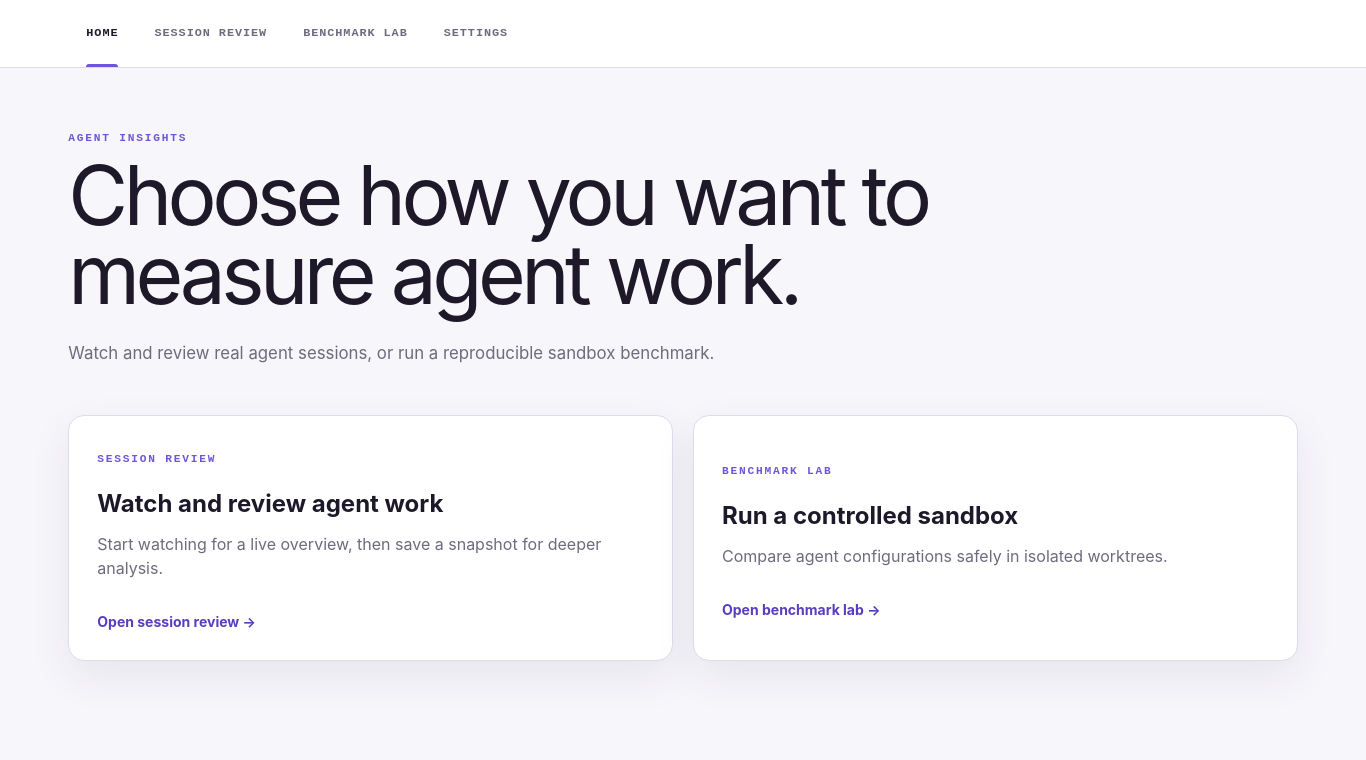
Scenario: does not retry durable history against a different connected repository
Click the button "Benchmark Lab".
click(355, 34)  # box x1=285 y1=0 x2=426 y2=67
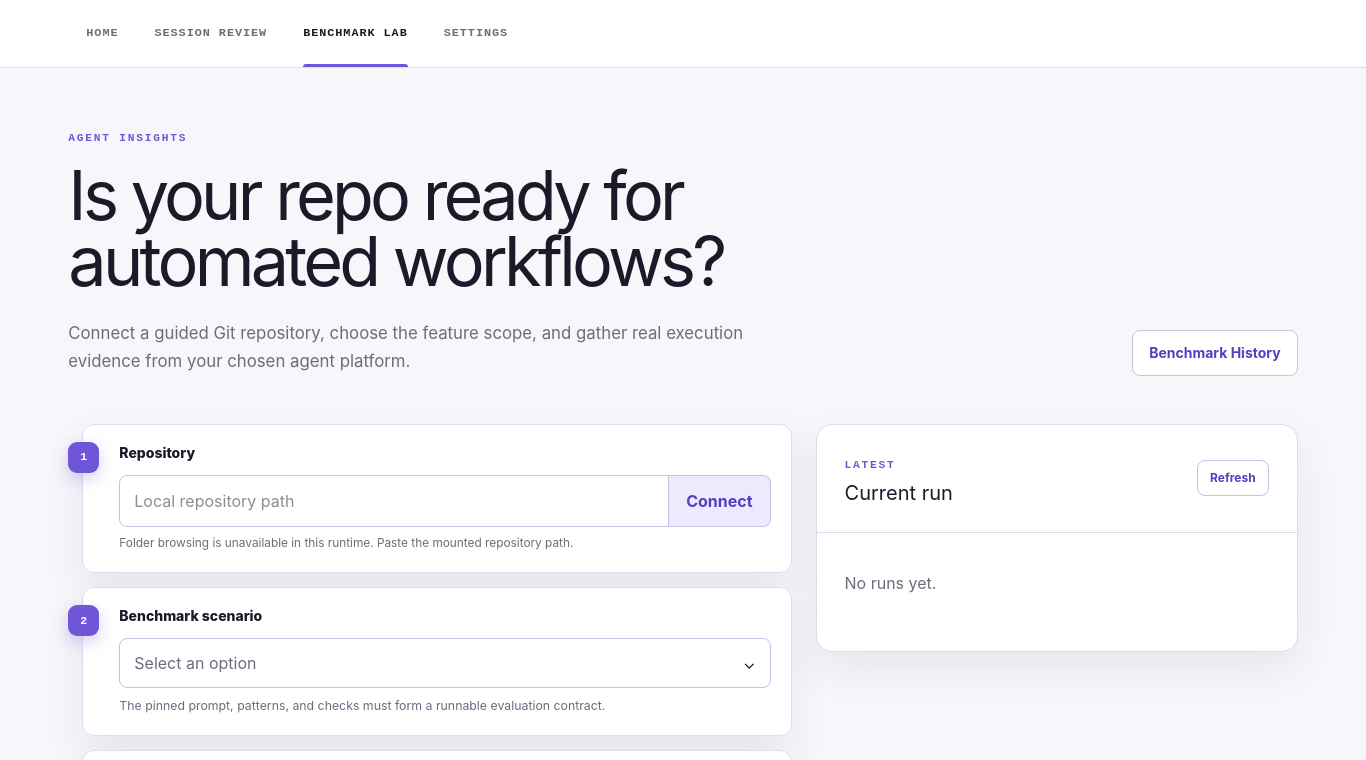
Type "/tmp/other-repo" into the field labelled "Local repository path".
click(394, 501); type("/tmp/other-repo")  # box x1=119 y1=475 x2=669 y2=527
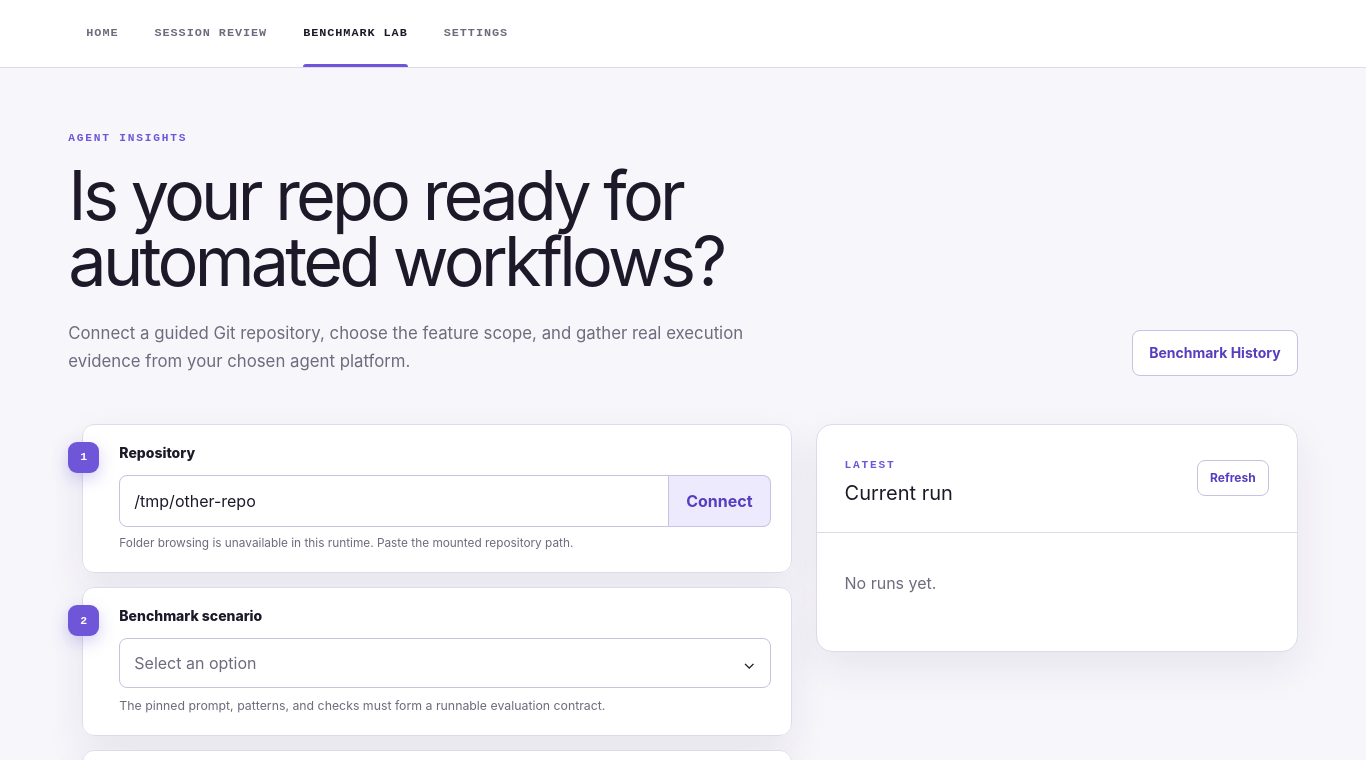
Click the button "Connect".
click(720, 501)  # box x1=669 y1=475 x2=771 y2=527
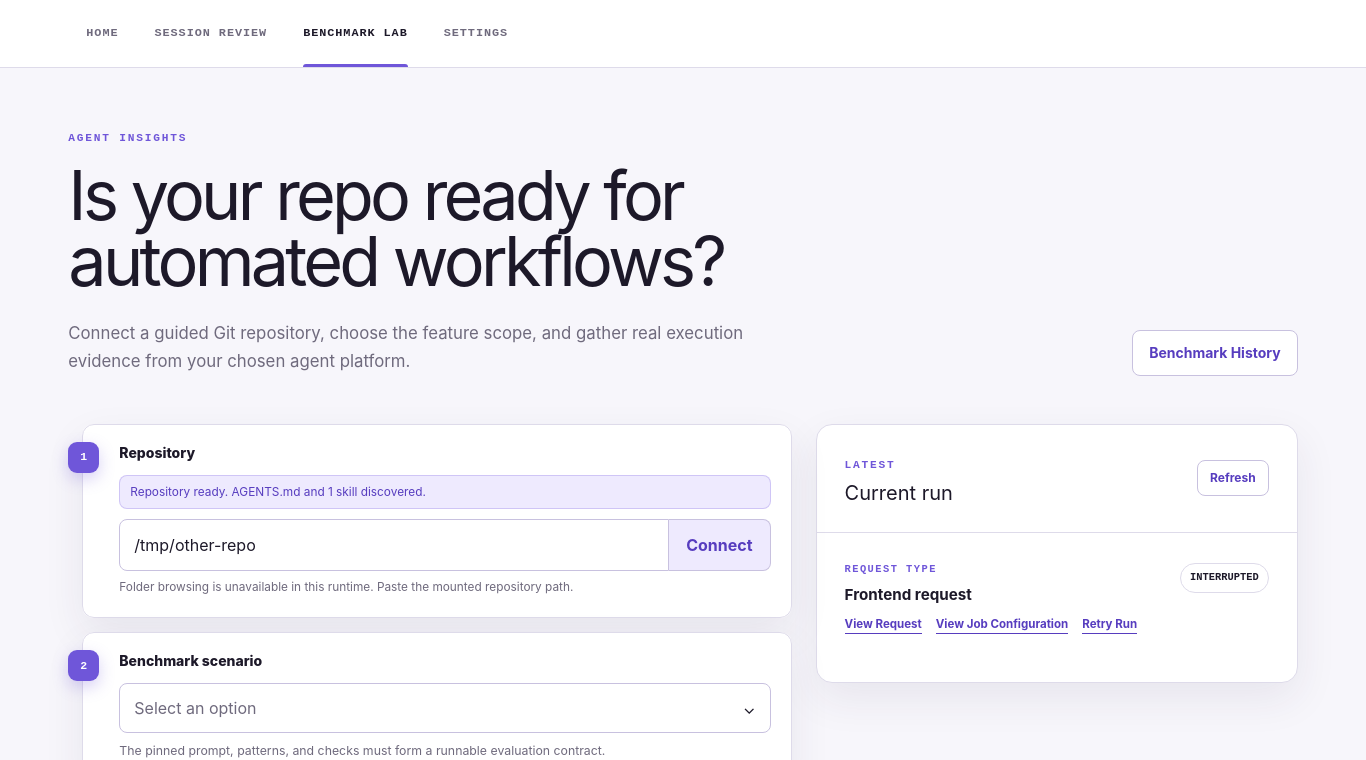
expect the text "Repository ready. AGENTS.md and 1 skill discovered." is shown: met, box x1=119 y1=475 x2=770 y2=509
Click the button "Retry Run".
click(1110, 625)  # box x1=1082 y1=616 x2=1137 y2=634
(page scrolled)
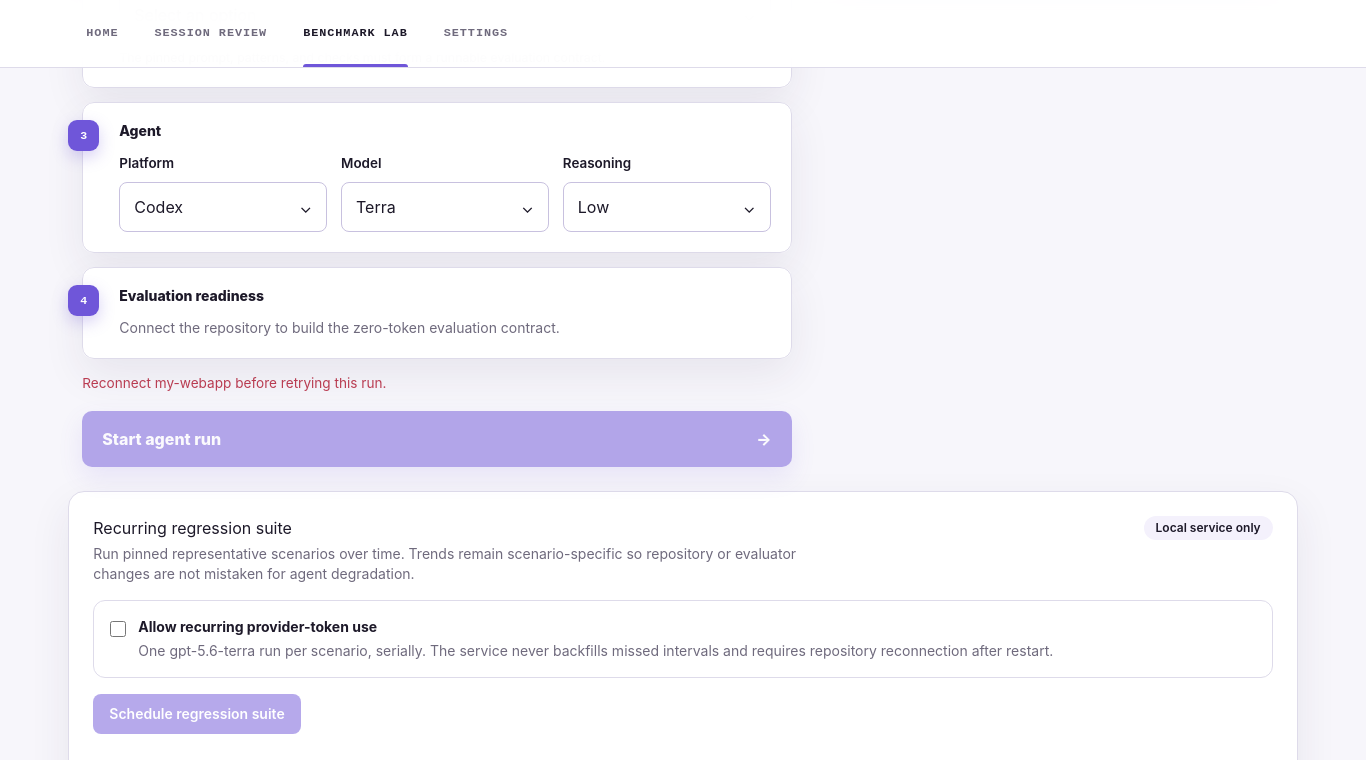
expect the text "Reconnect my-webapp before retrying this run." is shown: met, box x1=82 y1=375 x2=386 y2=391
